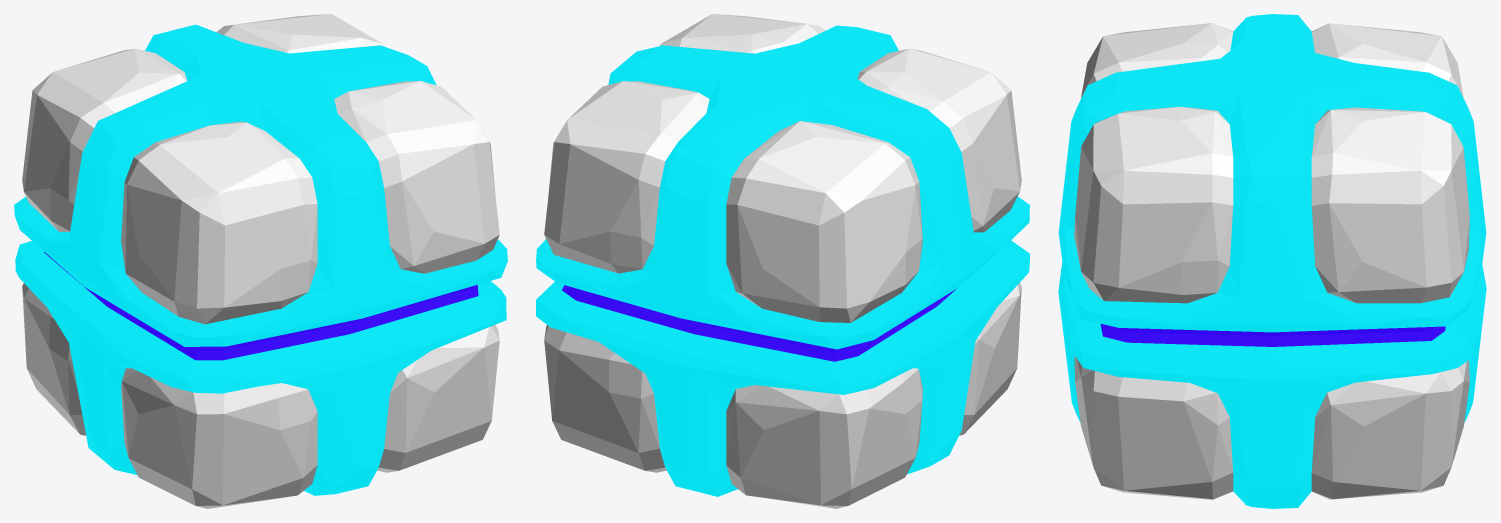
The model's file is invisibility.glb.
3 renders of one model, left to right at view 1: azimuth 30°, elevation 25°; view 2: azimuth 150°, elevation 25°; view 3: azimuth 270°, elevation 25°, orthographic. The views are drawn at different scales.
Visible parts, largest first — view 1: invisibility_BAKED; view 2: invisibility_BAKED; view 3: invisibility_BAKED.
Part boxes in pixels (<box>): invisibility_BAKED: <box>14,14,507,508</box>; invisibility_BAKED: <box>536,14,1029,508</box>; invisibility_BAKED: <box>1058,14,1486,508</box>.
Size of the model in its own units: 2.13 by 2.13 by 2.13.
